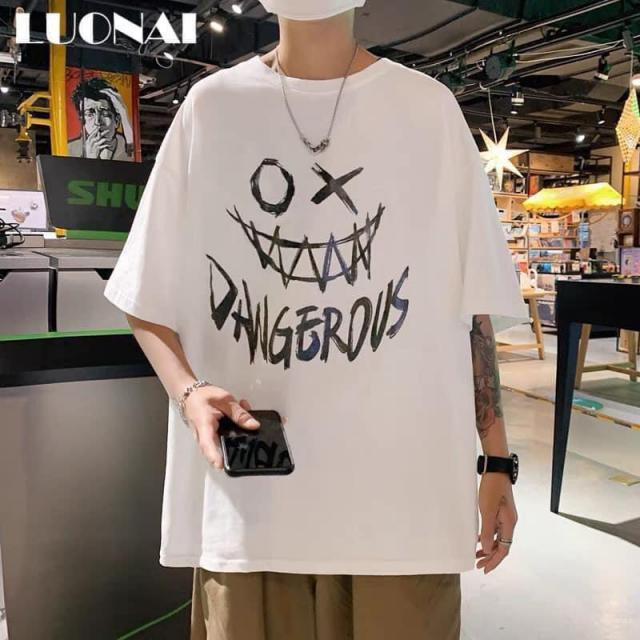Shirt: (106, 47, 522, 573)
